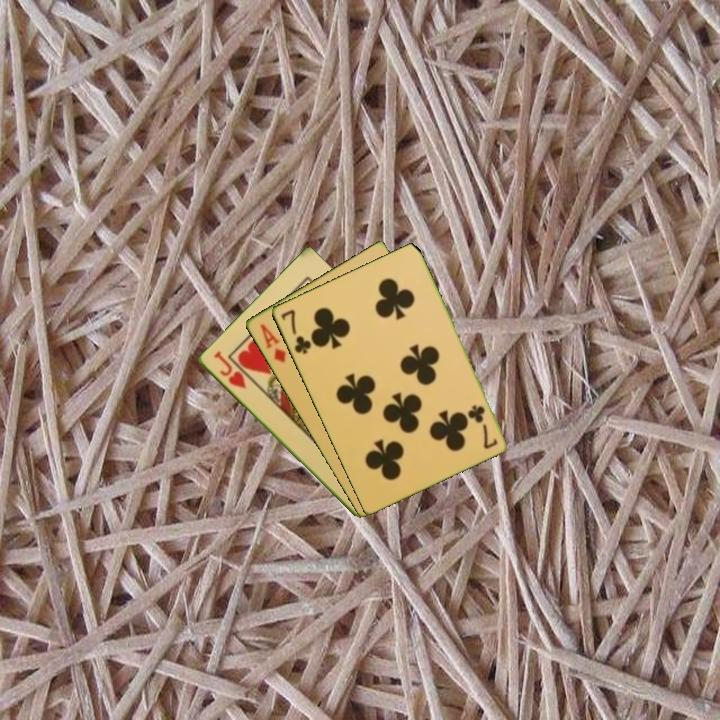7c: (277, 306, 314, 357), (466, 401, 500, 451)
Ad: (256, 320, 289, 366)
Jh: (210, 347, 249, 391)
